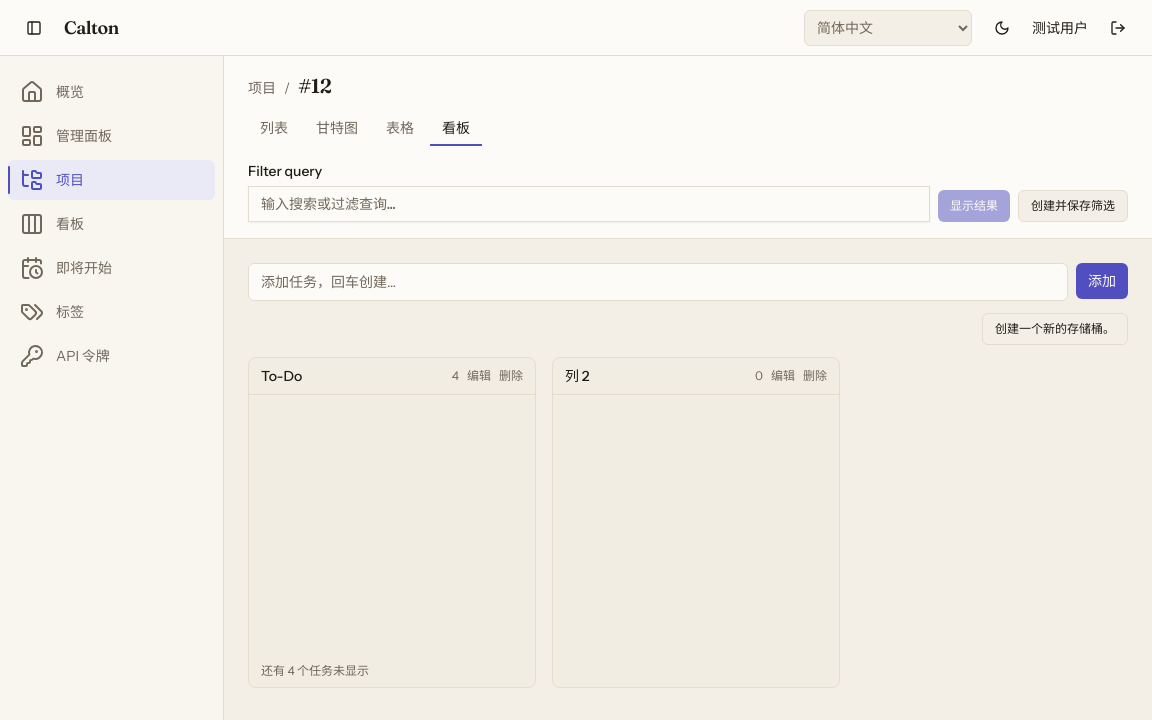
Test case: 看板：列（桶）CRUD › ★ 删除确认里说明任务不会被删除，而是移到默认列
Click the button with test id "bucket-delete-1". click: coordinates (511, 376)
box: [499,368,523,384]
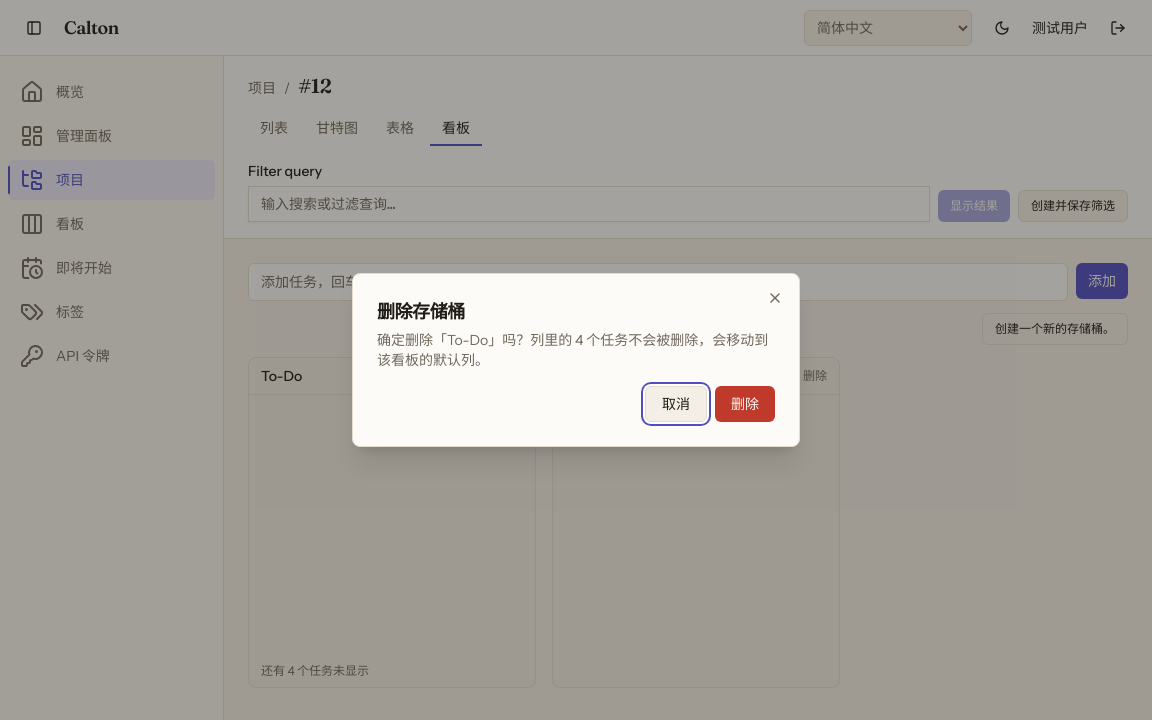
Expected: the dialog with test id "bucket-delete-dialog" shows "4 个任务不会被删除", [377,331,768,369]
Expected: the dialog with test id "bucket-delete-dialog" shows "移动到该看板的默认列", [377,331,768,369]
